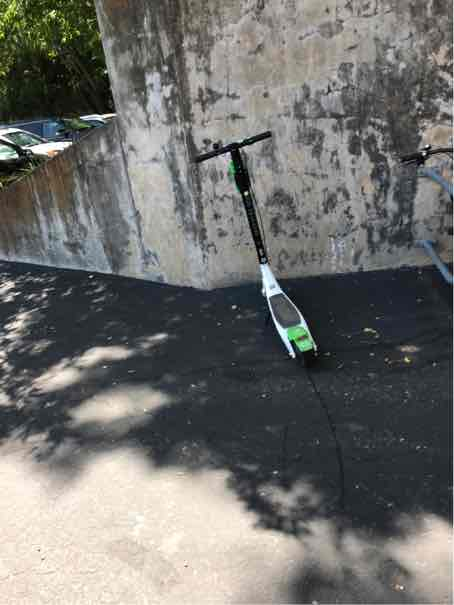scooter: (174, 124, 334, 368)
